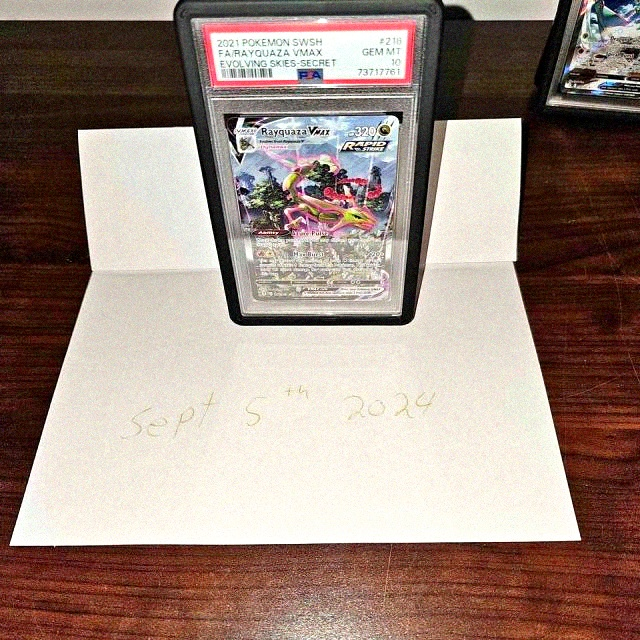card: (226, 115, 399, 302)
